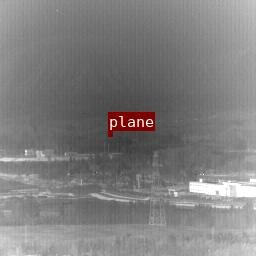plane: (108, 131, 112, 134)
